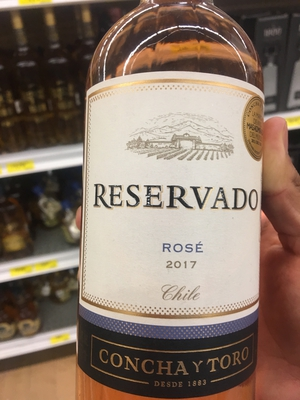reservado rose: (84, 8, 259, 400)
